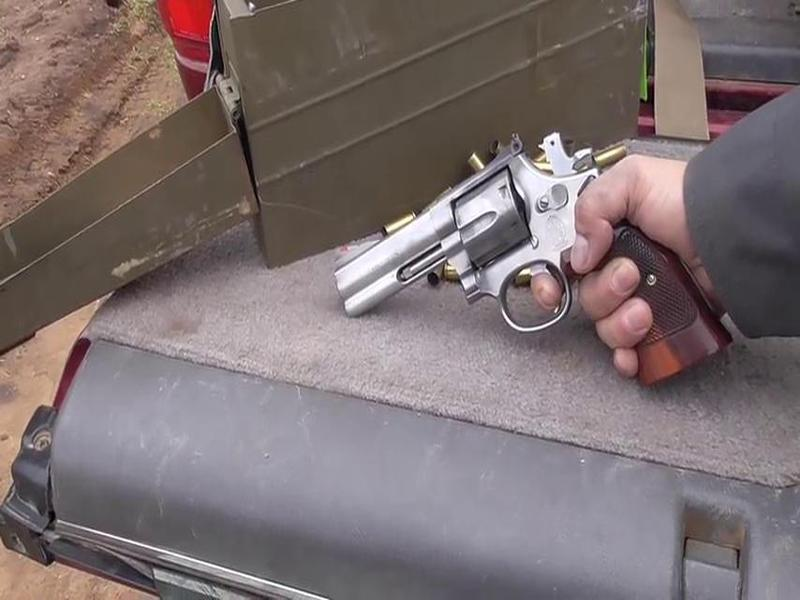Revolver: (320, 134, 725, 391)
